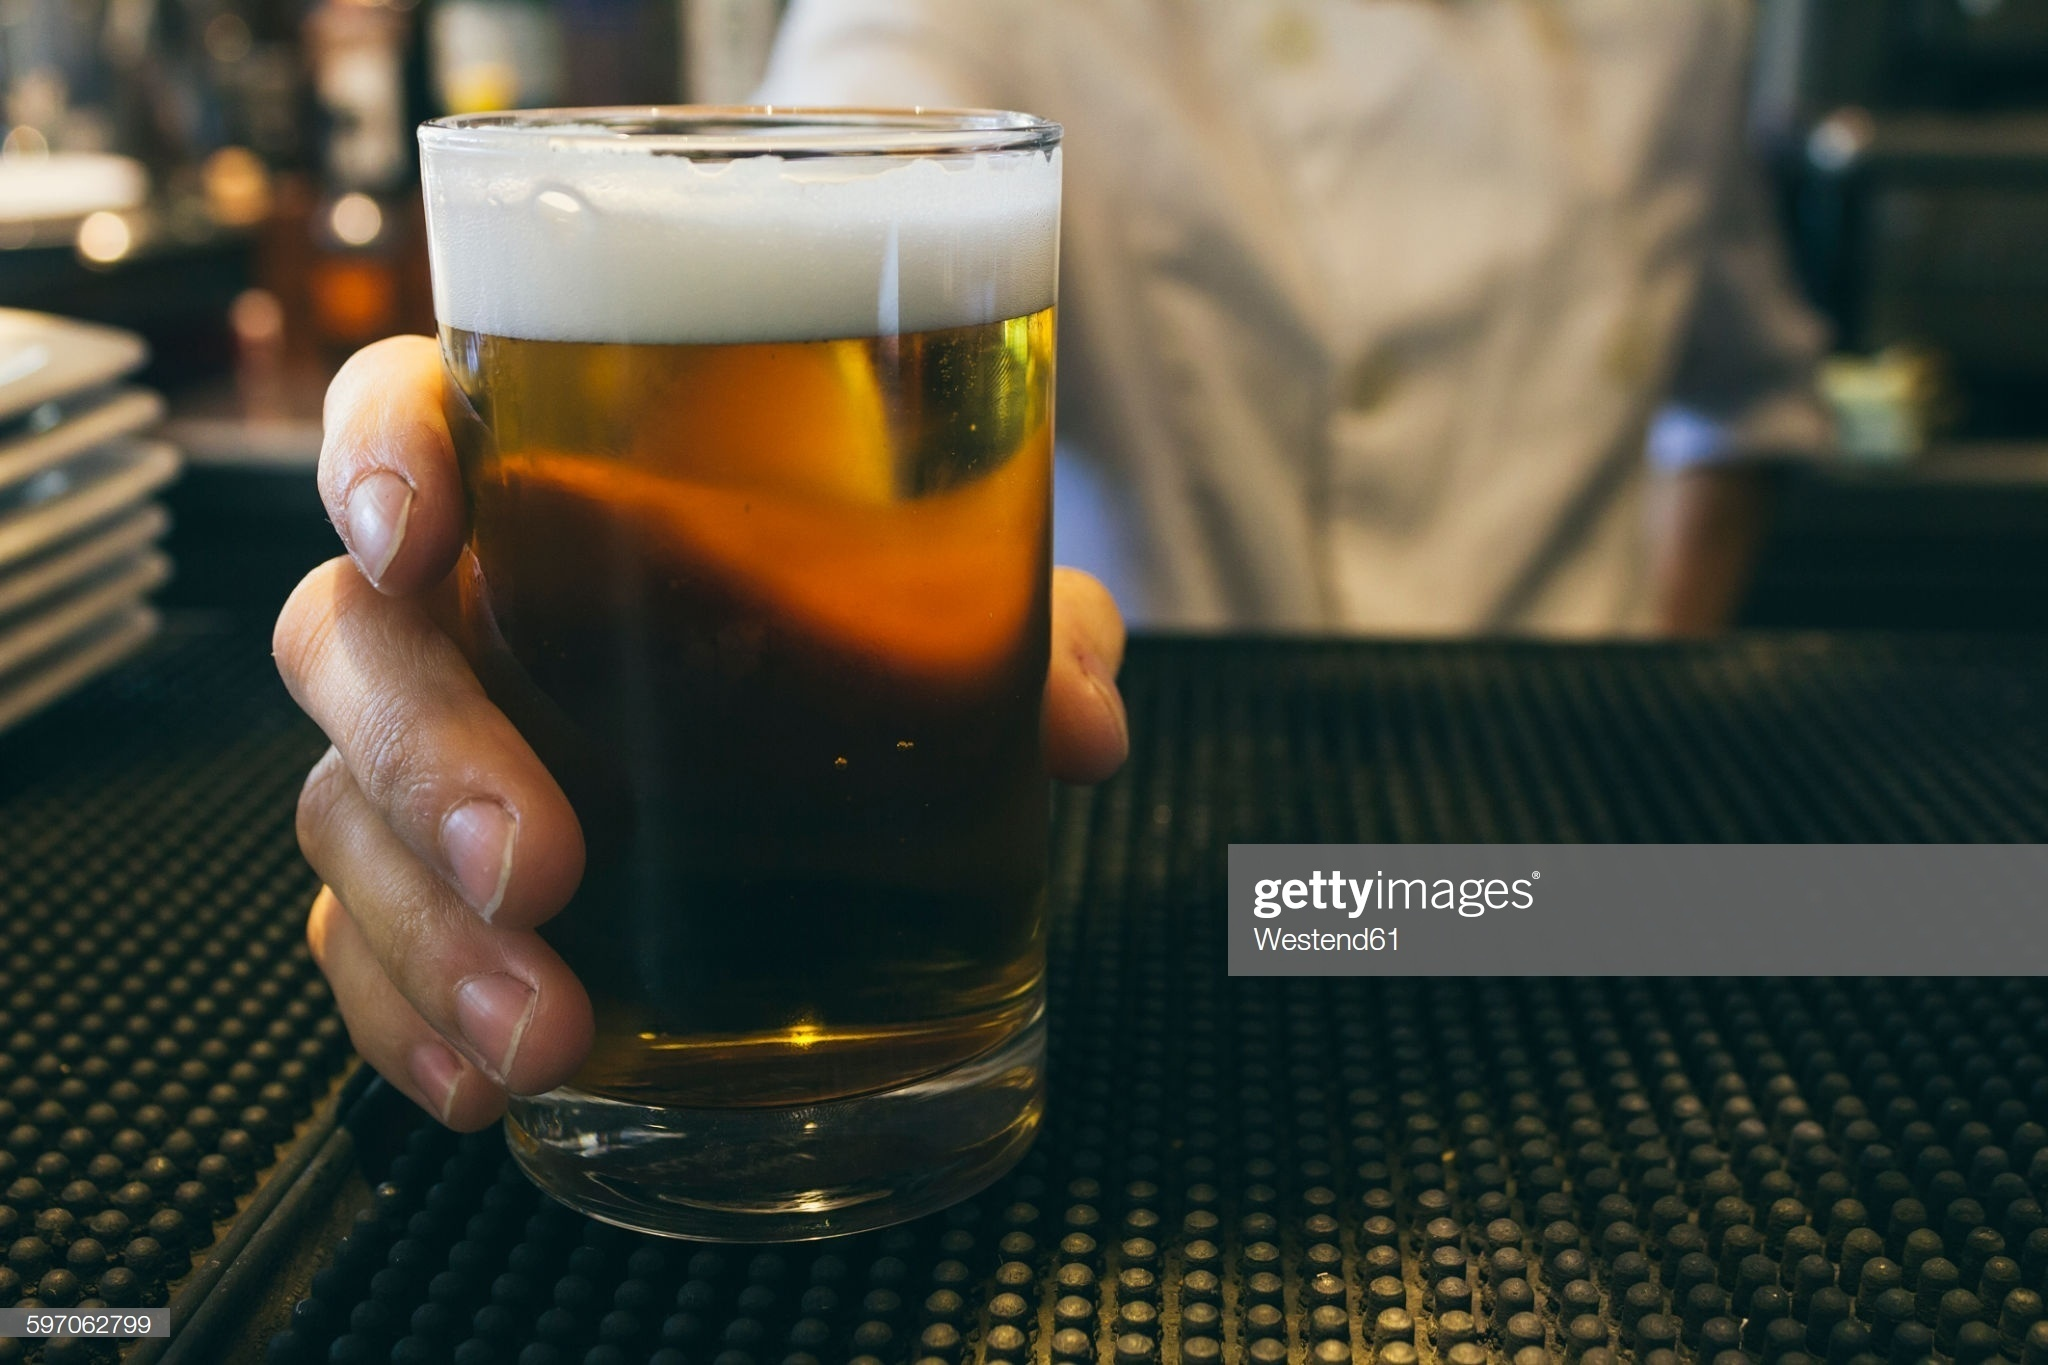whiskey: (407, 72, 1061, 1158)
